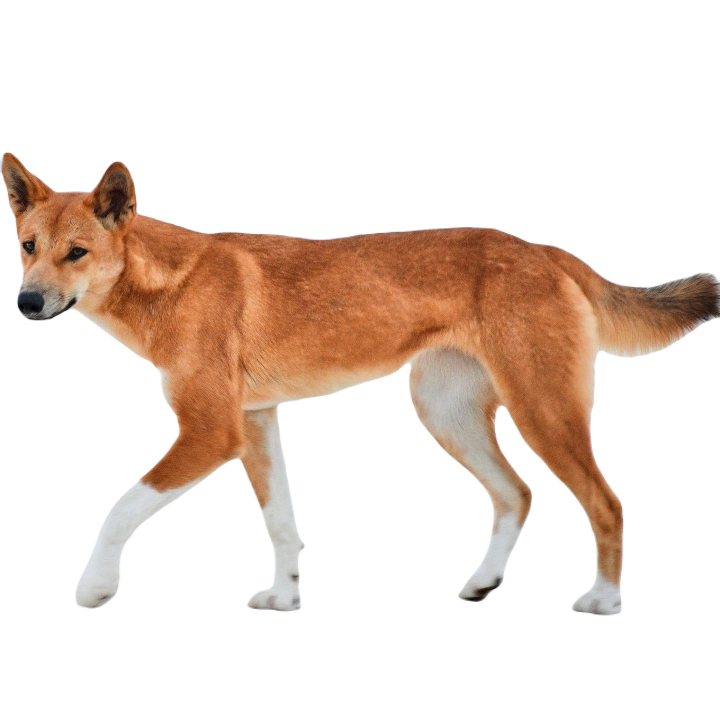Dog: (1, 147, 717, 620)
